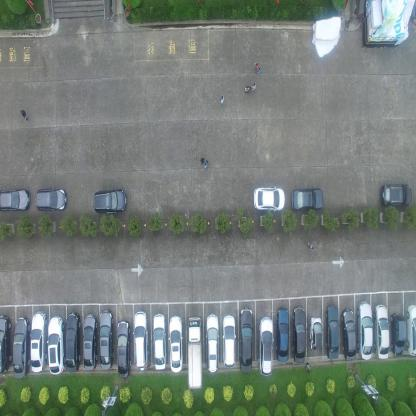car: (29, 308, 48, 373), (186, 316, 202, 390), (12, 317, 30, 380), (47, 314, 65, 376), (66, 309, 82, 373), (99, 307, 115, 369), (238, 306, 253, 372), (358, 299, 374, 359), (134, 310, 150, 370), (168, 313, 184, 372), (291, 303, 306, 364), (374, 302, 390, 359), (258, 316, 273, 376), (252, 185, 286, 211), (152, 312, 167, 370), (84, 312, 99, 370), (205, 312, 219, 374), (379, 181, 412, 207), (291, 187, 325, 212), (342, 306, 357, 361), (94, 188, 128, 212), (117, 319, 131, 377), (35, 187, 68, 211), (325, 302, 339, 358), (0, 188, 30, 214), (275, 306, 289, 361), (222, 314, 236, 367), (390, 312, 405, 356), (0, 315, 11, 374), (309, 314, 323, 352), (406, 304, 416, 356)
